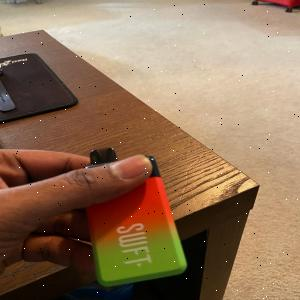Swift-E-Ciggirate: (75, 144, 189, 290)
